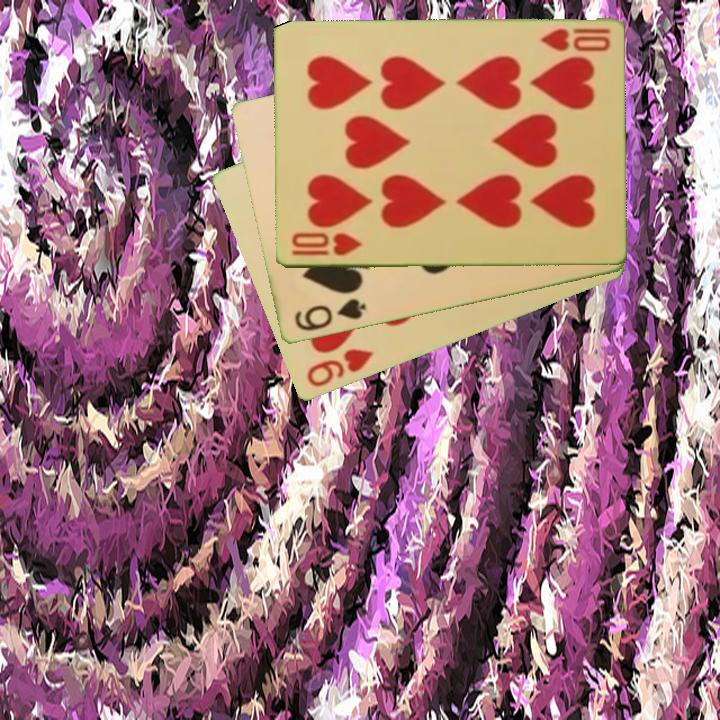10h: (536, 25, 613, 55), (288, 230, 365, 259)
6s: (290, 295, 369, 335)
9h: (302, 345, 377, 391)
